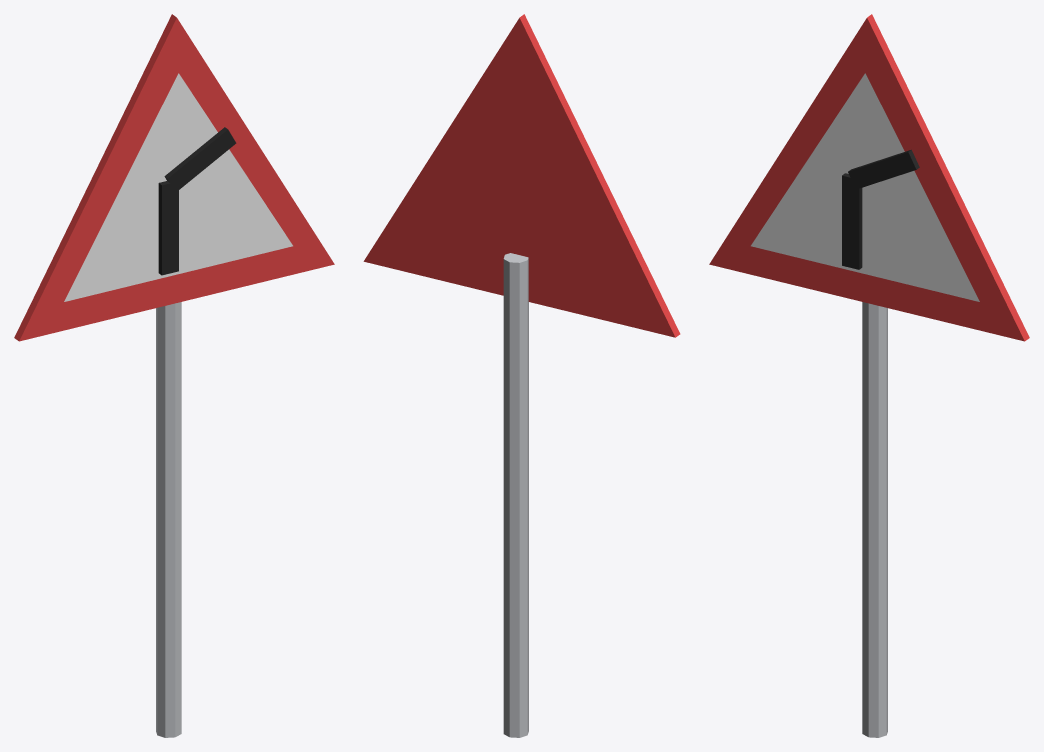
File: sign_curve_r.glb
The picture shows the model from 3 angles, left to right: view 1: azimuth 30°, elevation 25°; view 2: azimuth 150°, elevation 25°; view 3: azimuth 330°, elevation 25°; orthographic projection.
Parts seen in each view (by area): view 1: sign_curve_r; view 2: sign_curve_r; view 3: sign_curve_r.
Boxes of the visible parts, <box> form: sign_curve_r: <box>14,14,334,737</box>; sign_curve_r: <box>363,14,680,737</box>; sign_curve_r: <box>709,14,1029,737</box>.
Size of the model in its own units: 1.1 by 2.4 by 0.12.
